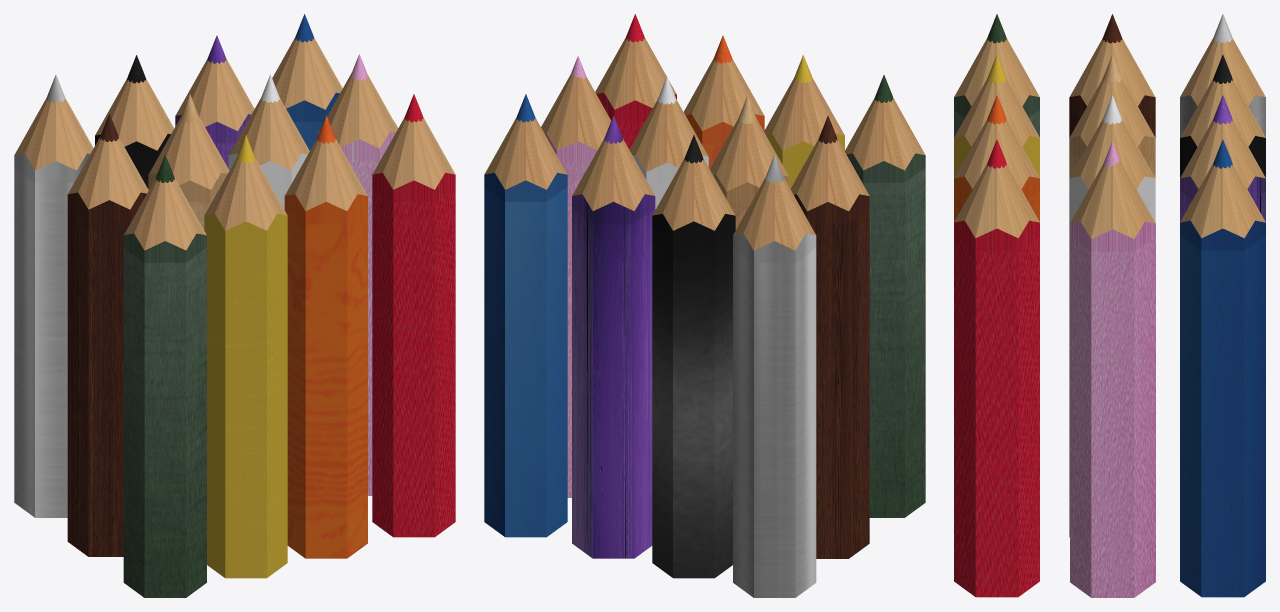
File: colorpencil.fbx
The picture shows the model from 3 angles, left to right: view 1: azimuth 30°, elevation 25°; view 2: azimuth 150°, elevation 25°; view 3: azimuth 270°, elevation 25°; orthographic projection. The views are drawn at different scales.
Visible parts, largest first — view 1: Cylinder, Cylinder.009, Cylinder.006, Cylinder.003, Cylinder.033, Cylinder.045, Cylinder.005, Cylinder.011, Cylinder.002, Cylinder.008, Cylinder.023, Cylinder.047 (+12 smaller); view 2: Cylinder.036, Cylinder.045, Cylinder.042, Cylinder.039, Cylinder.009, Cylinder.033, Cylinder.041, Cylinder.038, Cylinder.044, Cylinder.047, Cylinder.011, Cylinder.023 (+12 smaller); view 3: Cylinder, Cylinder.036, Cylinder.024, Cylinder.026, Cylinder.002, Cylinder.038, Cylinder.029, Cylinder.005, Cylinder.041, Cylinder.032, Cylinder.011, Cylinder.023 (+12 smaller).
Part boxes in pixels (<box>): Cylinder: <box>372,172,455,537</box>; Cylinder.009: <box>123,233,206,597</box>; Cylinder.006: <box>204,213,287,578</box>; Cylinder.003: <box>284,194,367,558</box>; Cylinder.033: <box>67,192,146,556</box>; Cylinder.045: <box>14,153,90,517</box>; Cylinder.005: <box>285,138,367,211</box>; Cylinder.011: <box>124,177,206,250</box>; Cylinder.002: <box>372,117,455,189</box>; Cylinder.008: <box>204,158,287,230</box>; Cylinder.023: <box>68,136,148,209</box>; Cylinder.047: <box>14,97,93,170</box>; Cylinder.036: <box>484,172,567,537</box>; Cylinder.045: <box>733,233,816,597</box>; Cylinder.042: <box>652,213,735,578</box>; Cylinder.039: <box>572,194,655,558</box>; Cylinder.009: <box>846,153,925,517</box>; Cylinder.033: <box>794,194,869,558</box>; Cylinder.041: <box>572,138,654,211</box>; Cylinder.038: <box>484,117,567,189</box>; Cylinder.044: <box>652,158,735,230</box>; Cylinder.047: <box>733,177,815,250</box>; Cylinder.011: <box>844,97,925,170</box>; Cylinder.023: <box>790,138,869,211</box>; Cylinder: <box>954,220,1039,597</box>; Cylinder.036: <box>1180,220,1265,597</box>; Cylinder.024: <box>1070,221,1155,597</box>; Cylinder.026: <box>1070,159,1155,238</box>; Cylinder.002: <box>954,163,1039,238</box>; Cylinder.038: <box>1180,163,1265,238</box>; Cylinder.029: <box>1070,119,1154,189</box>; Cylinder.005: <box>954,118,1039,188</box>; Cylinder.041: <box>1180,118,1265,188</box>; Cylinder.032: <box>1069,78,1155,146</box>; Cylinder.011: <box>954,37,1039,105</box>; Cylinder.023: <box>1070,38,1154,105</box>.
Size of the model in its own units: 3881 by 5091 by 3245.
Materials: 13 (13 with a texture image).
